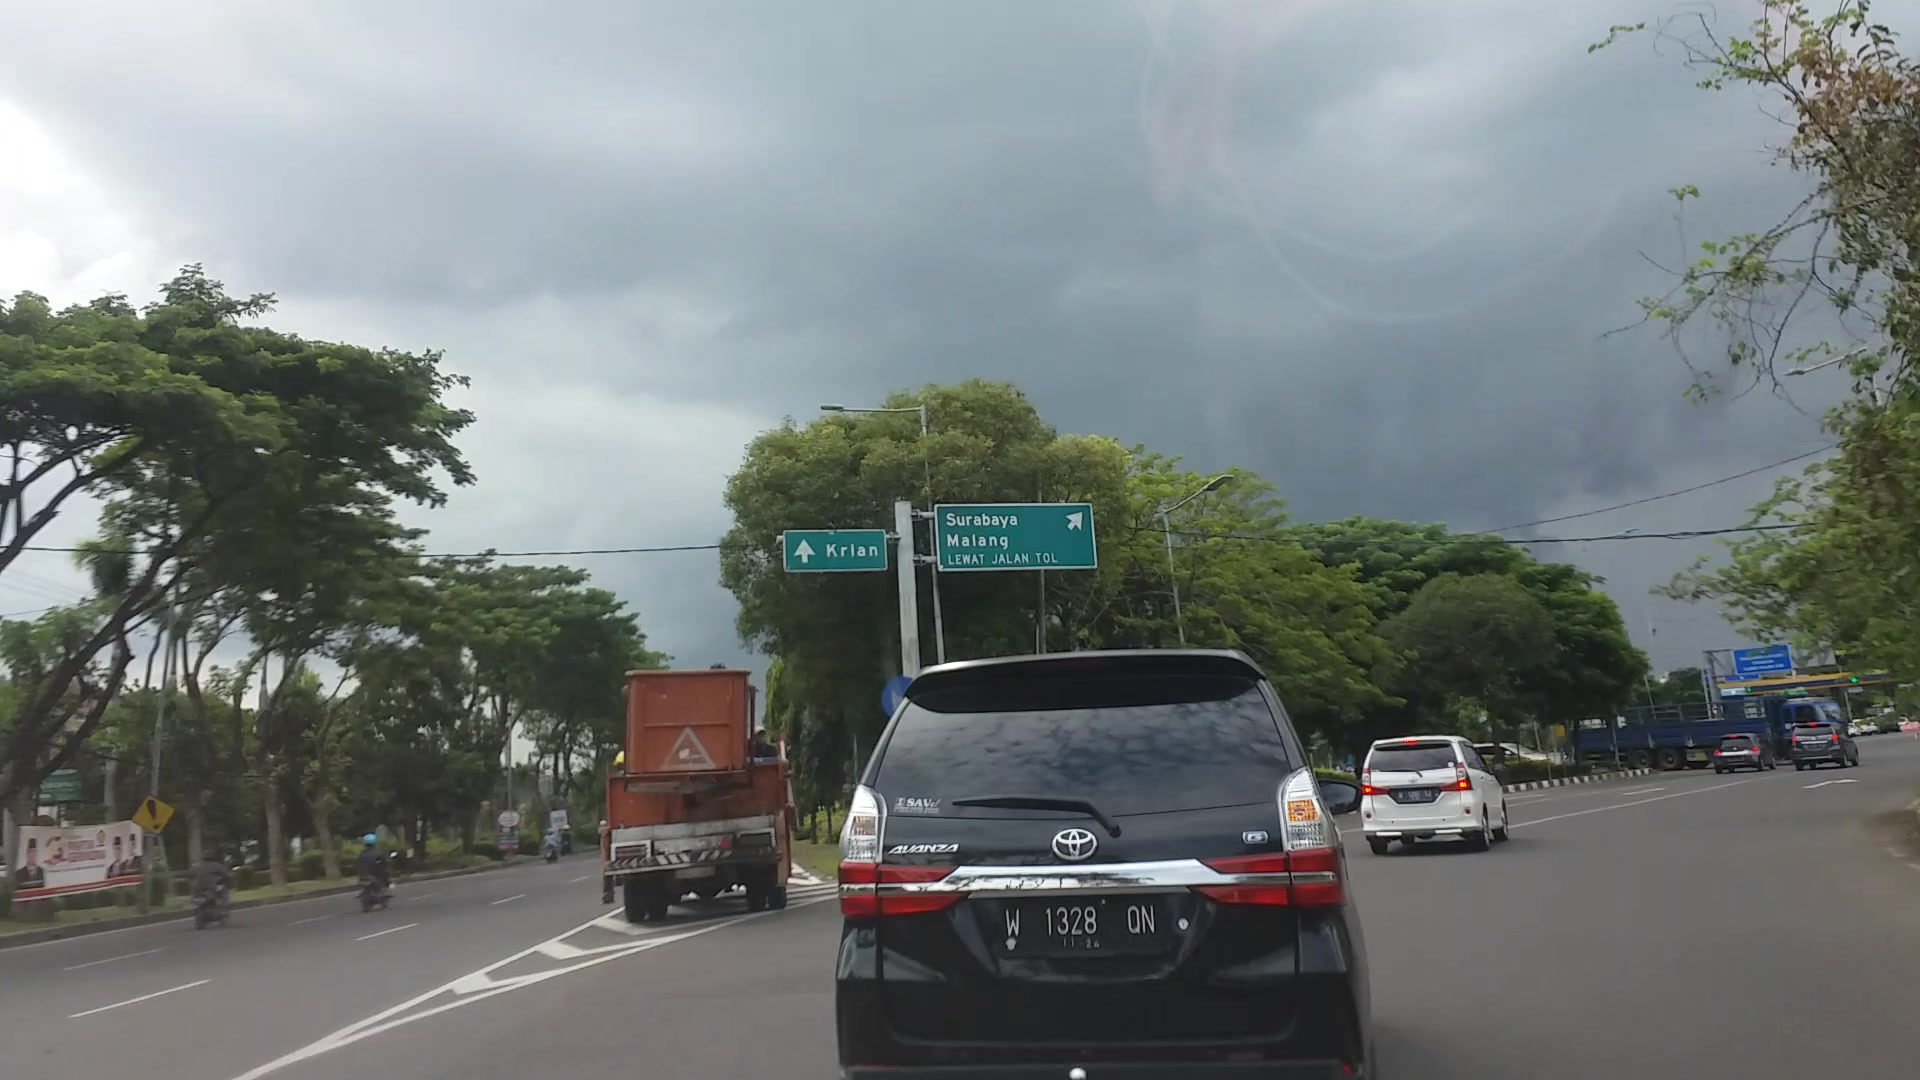plate_positive: (1000, 897, 1163, 955)
